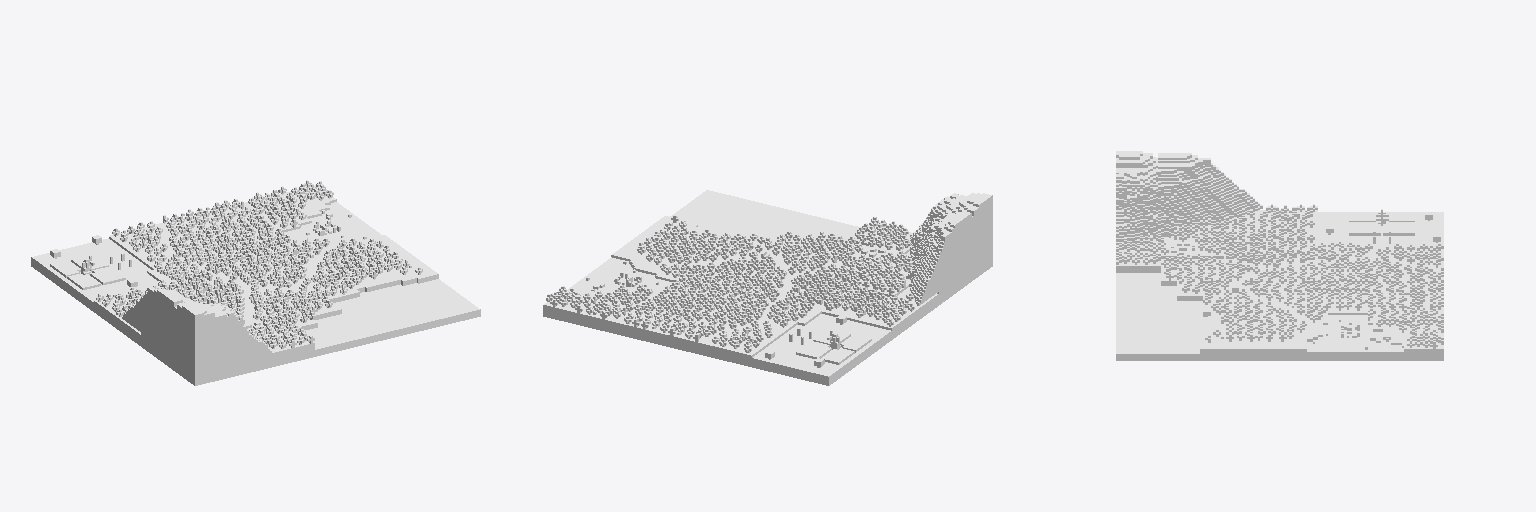
The model's file is mapa4.obj.
3 views of the same model, side by side, from view 1: azimuth 30°, elevation 25°; view 2: azimuth 150°, elevation 25°; view 3: azimuth 270°, elevation 25° (orthographic).
Visible parts, largest first — view 1: object 1; view 2: object 1; view 3: object 1.
Part boxes in pixels (x1,y1,x2,y2): object 1: (31,180,480,385); object 1: (543,190,992,385); object 1: (1116,151,1443,360).
Bounding box in the file's own units: 12.6 × 3 × 12.5.